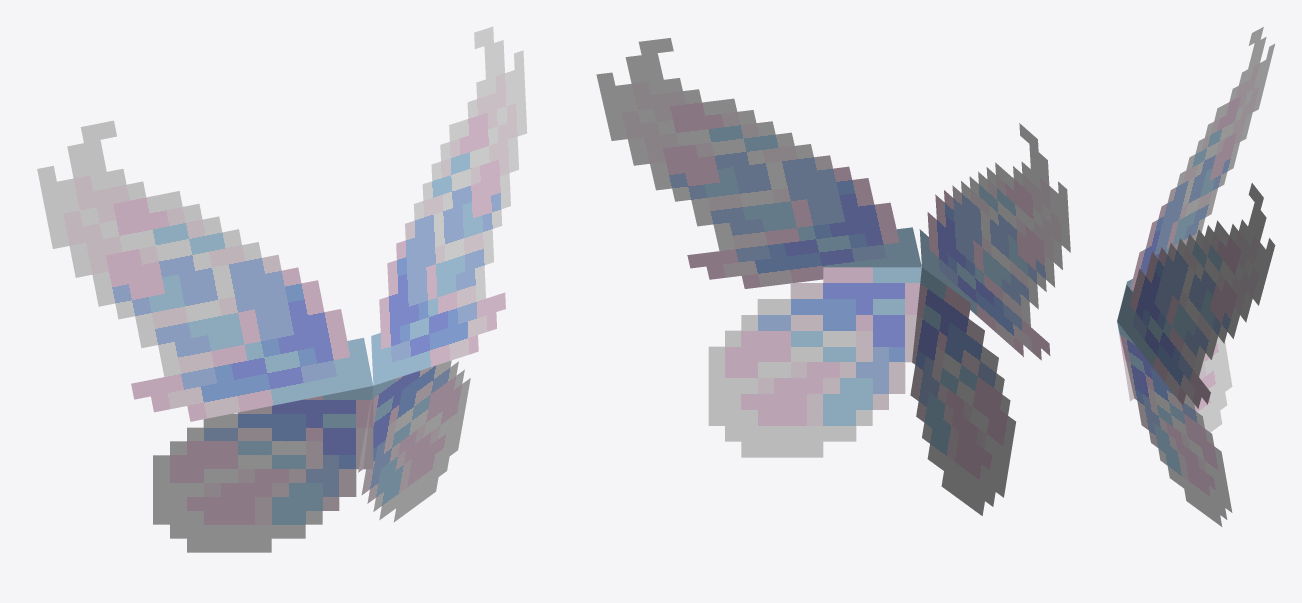
Rendered from sl_pixie_wings.glb.
The picture shows the model from 3 angles, left to right: view 1: azimuth 30°, elevation 25°; view 2: azimuth 150°, elevation 25°; view 3: azimuth 270°, elevation 25°; orthographic projection. The views are drawn at different scales.
Visible parts, largest first — view 1: bb_pixie_wings; view 2: bb_pixie_wings; view 3: bb_pixie_wings.
Boxes of the visible parts, <box> form: bb_pixie_wings: <box>37,26,527,552</box>; bb_pixie_wings: <box>596,38,1070,515</box>; bb_pixie_wings: <box>1117,27,1275,526</box>.
Bounding box in the file's own units: 2.2 × 2.01 × 0.7409.
Materials: 1 (1 with a texture image).
